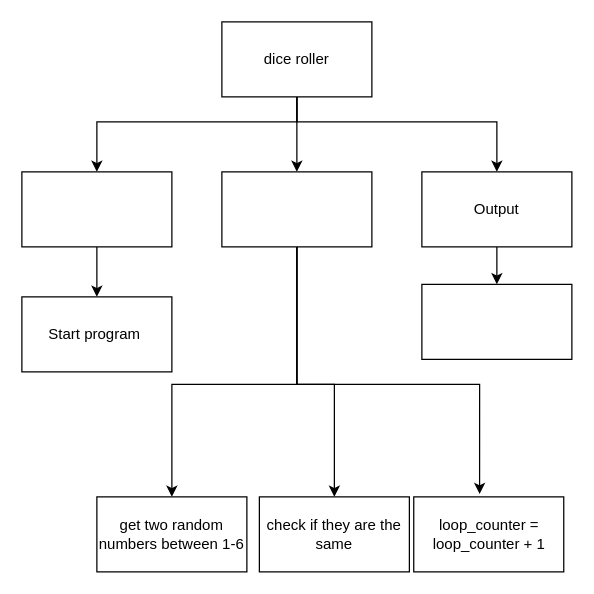
Some shapes in this 594 by 594 pixel diagram are drawn without their labels. Here are the shapes that lost their labels. From the top down, the centre of each, then its label:
At point (96, 209): "Input".
At point (296, 209): "Process".
At point (496, 321): "show how many loops its been and if the numbers were the same or not".
